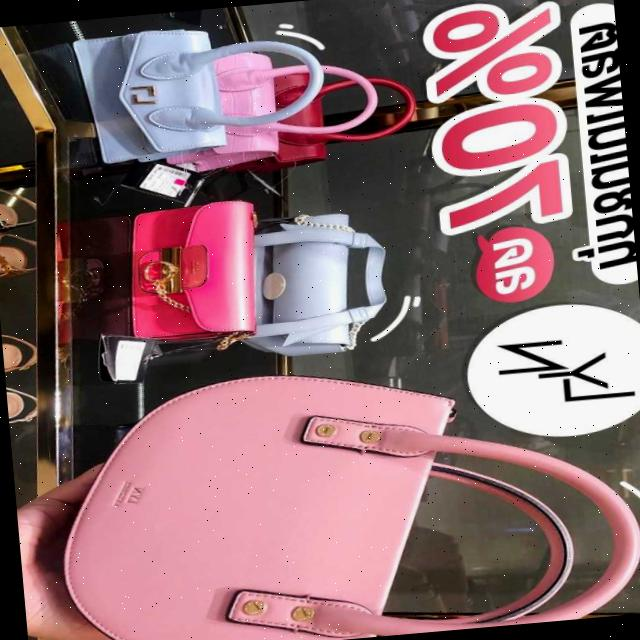handbag: (28, 353, 492, 640)
